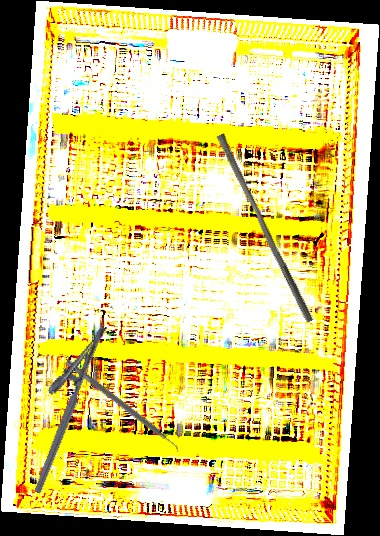Needle Holder: (10, 315, 109, 495)
Pusher: (209, 132, 322, 324)
Spatula Surgical: (60, 358, 184, 457)
